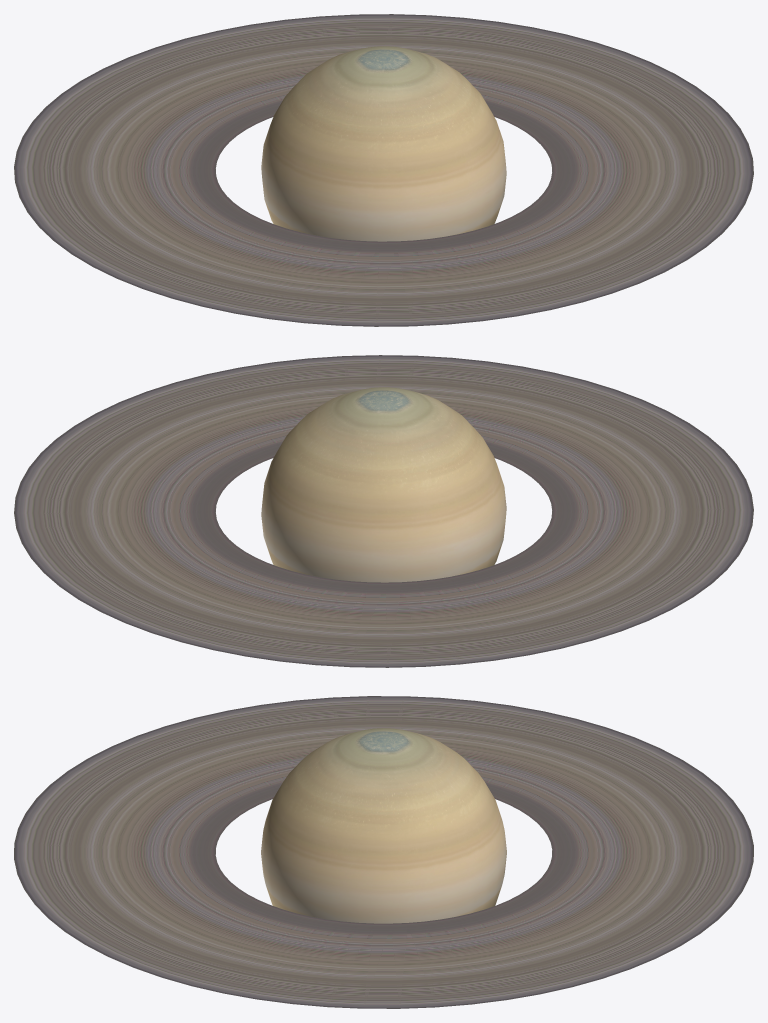
File: Saturn.fbx
The picture shows the model from 3 angles, top to bottom: view 1: azimuth 30°, elevation 25°; view 2: azimuth 150°, elevation 25°; view 3: azimuth 270°, elevation 25°; orthographic projection.
Visible parts, largest first — view 1: Saturn; view 2: Saturn; view 3: Saturn.
Part boxes in pixels (x1,y1,x2,y2): Saturn: (14, 14, 753, 326); Saturn: (14, 355, 753, 667); Saturn: (14, 696, 753, 1008).
Size of the model in its own units: 239 by 80.43 by 239.
